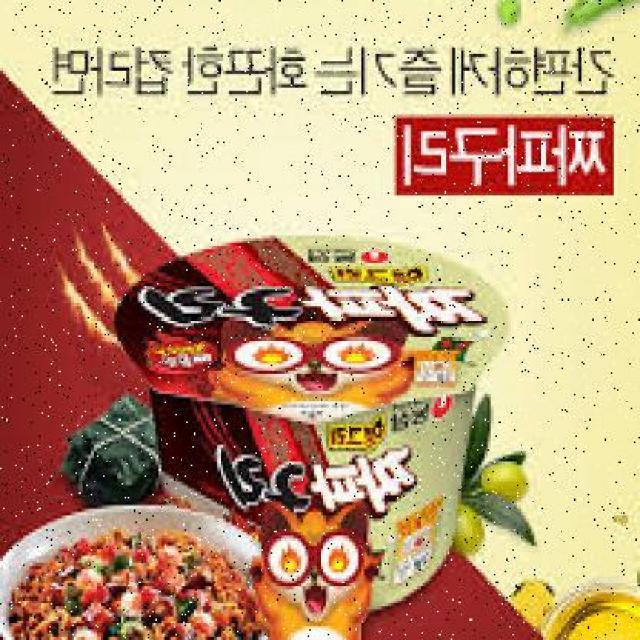Miscellaneous: (125, 235, 507, 617)
